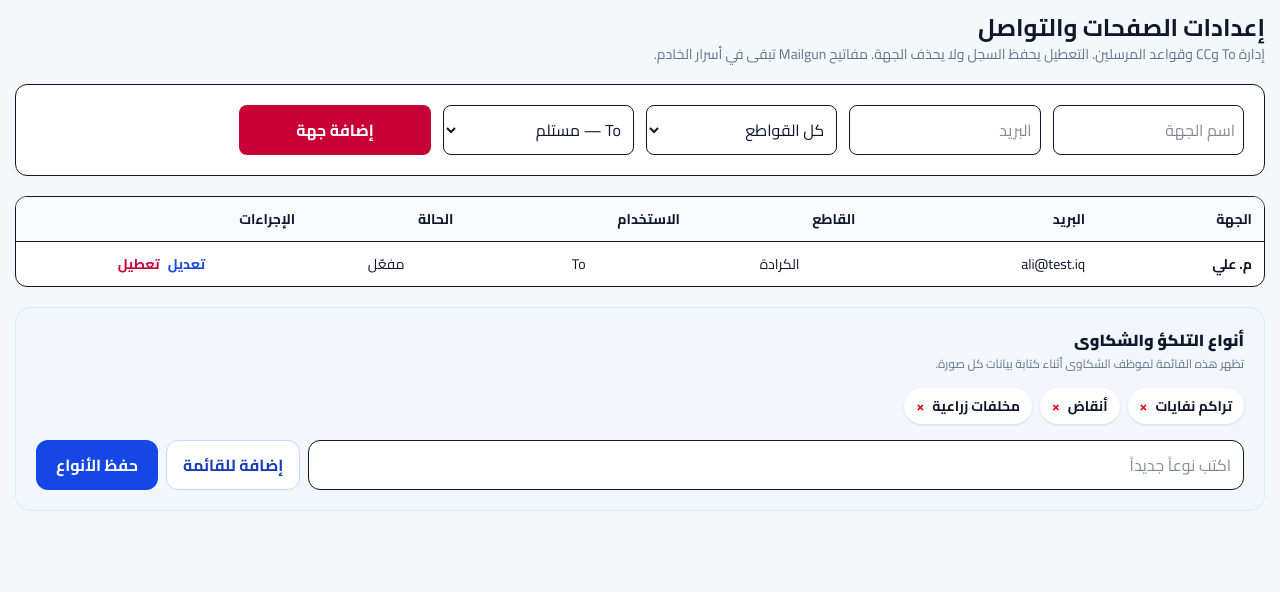
وحدة الإعدادات والتواصل — SettingsPage › يعطّل الجهة دون حذف ويعالج فشل التحديث
Click the button "تعطيل": (139, 264) x1=118 y1=254 x2=160 y2=274
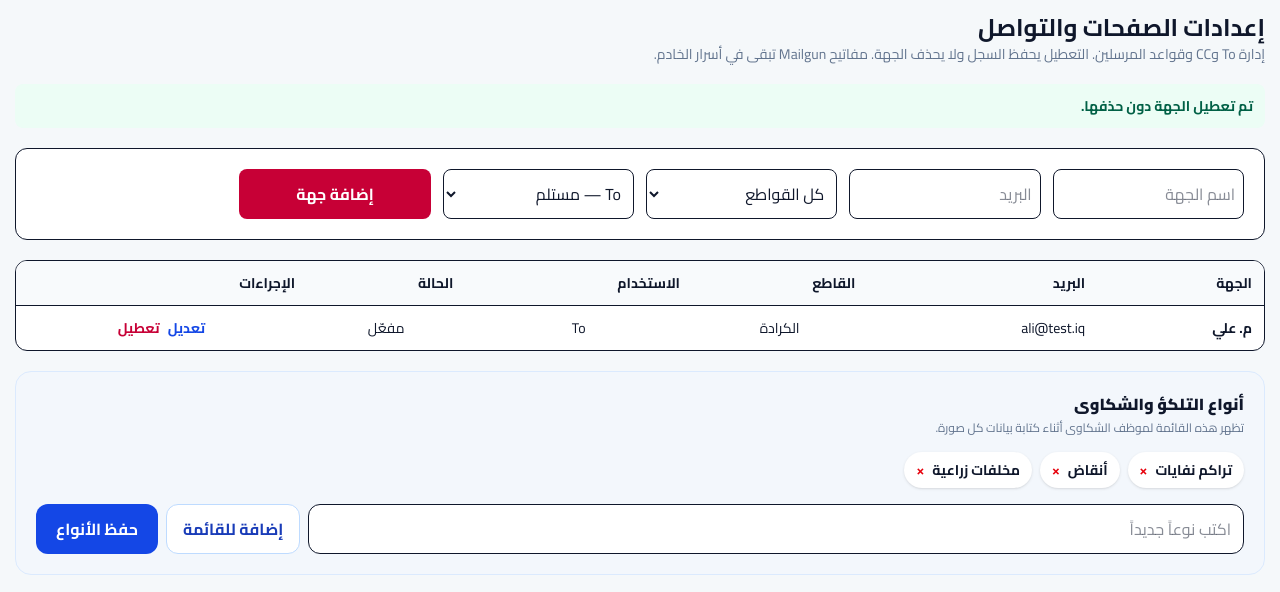
Expected: the text "تم تعطيل الجهة دون حذفها." is shown, x1=15 y1=84 x2=1265 y2=128
Click the button "تعطيل": (139, 328) x1=118 y1=318 x2=160 y2=338
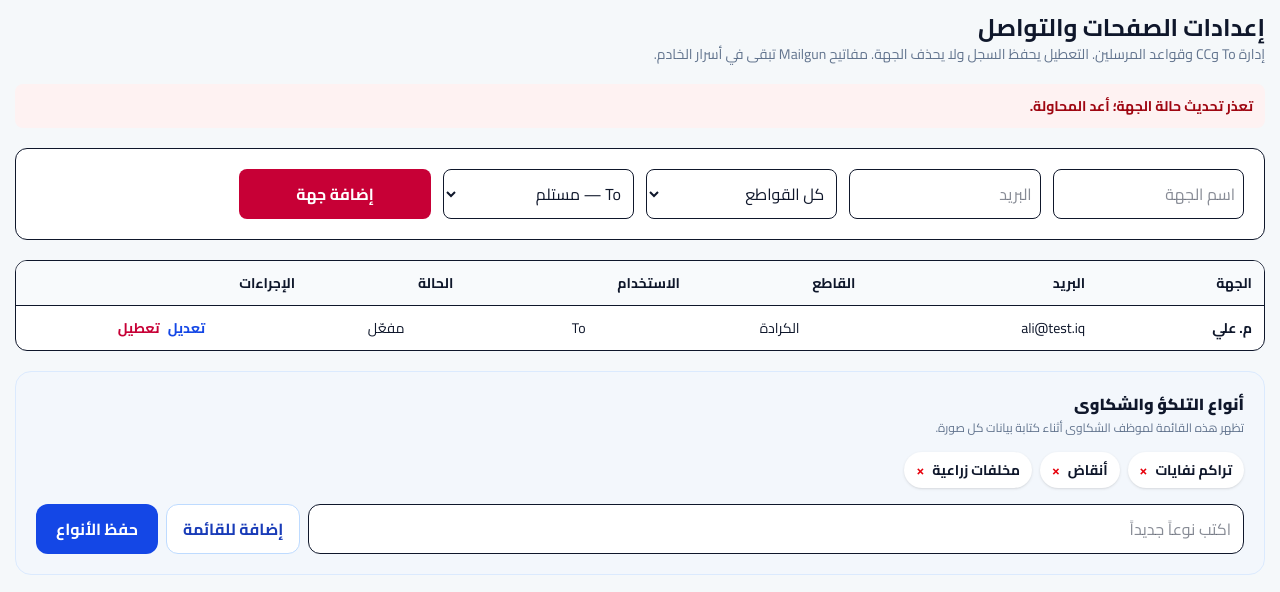
Expected: the text "تعذر تحديث حالة الجهة؛ أعد المحاولة." is shown, x1=15 y1=84 x2=1265 y2=128
